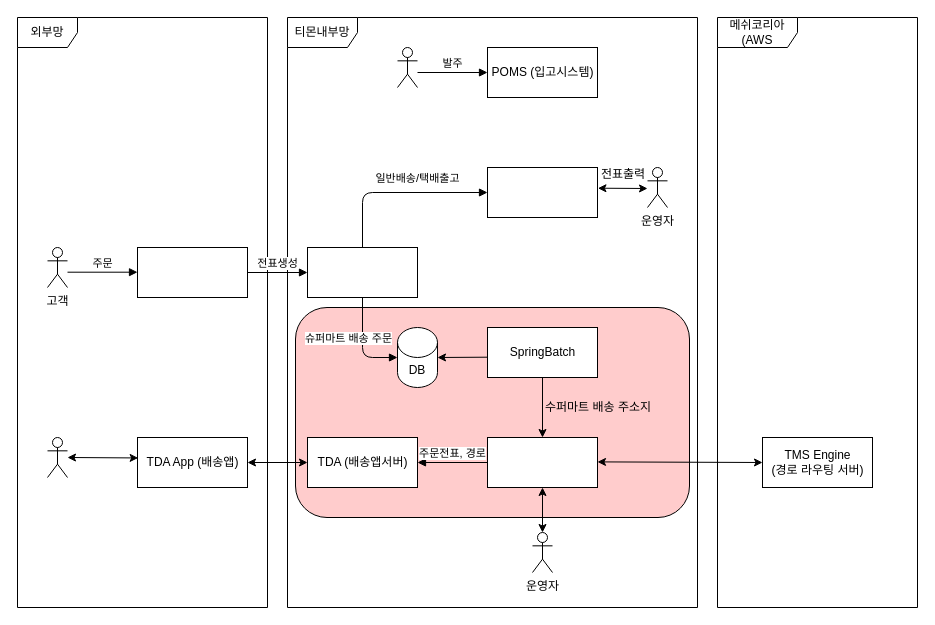
This 935x625 diagram has some shape labels left out. Here are the shapes that lost their labels. From the top down, the box of each, then its label:
(396, 46, 418, 88): MD
(486, 166, 598, 218): WMS (출고시스템)
(136, 246, 248, 298): Tmon App/Web
(306, 246, 418, 298): AMS
(46, 436, 68, 478): 택배기사님
(486, 436, 598, 488): TMS
